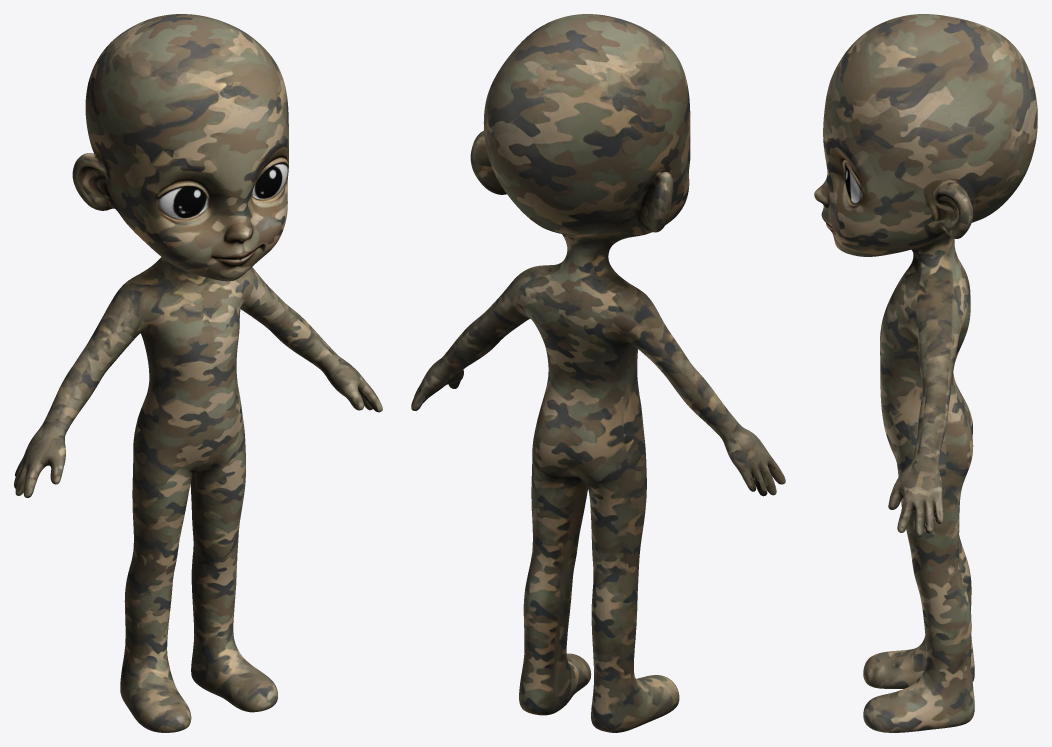
File: skin-camuflaje-comprimida-BDkvduAf.glb
The picture shows the model from 3 angles, left to right: view 1: azimuth 30°, elevation 25°; view 2: azimuth 150°, elevation 25°; view 3: azimuth 270°, elevation 25°; orthographic projection.
Visible parts, largest first — view 1: char1; view 2: char1; view 3: char1.
Part boxes in pixels (x1,y1,x2,y2): char1: [14, 14, 382, 732]; char1: [411, 14, 785, 732]; char1: [814, 14, 1037, 732].
Size of the model in its own units: 0.5556 by 1 by 0.2984.
Materials: 1 (1 with a texture image).
